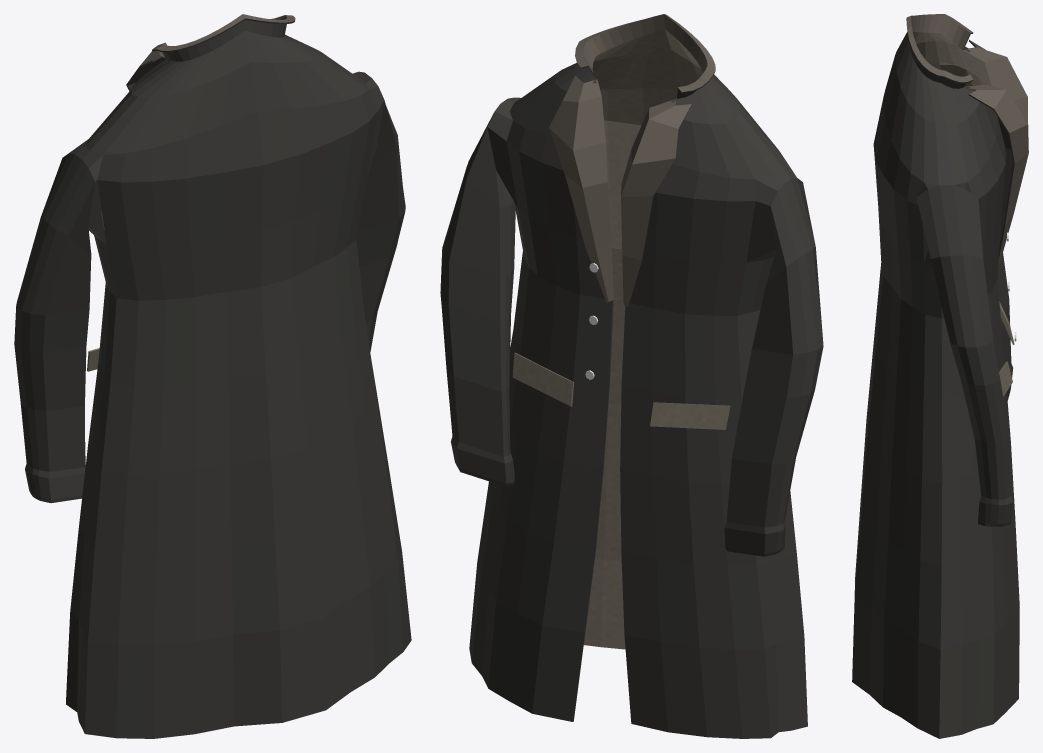
Rendered from coat_tailored.glb.
The picture shows the model from 3 angles, left to right: view 1: azimuth 30°, elevation 25°; view 2: azimuth 150°, elevation 25°; view 3: azimuth 270°, elevation 25°; orthographic projection. The views are drawn at different scales.
Visible parts, largest first — view 1: Tailored_coat_JOINED_sleeves; view 2: Tailored_coat_JOINED_sleeves, Pocket_L, Pocket_R; view 3: Tailored_coat_JOINED_sleeves.
Part boxes in pixels (<box>): Tailored_coat_JOINED_sleeves: <box>14,14,411,738</box>; Tailored_coat_JOINED_sleeves: <box>440,14,823,738</box>; Pocket_L: <box>650,402,730,429</box>; Pocket_R: <box>512,352,573,406</box>; Tailored_coat_JOINED_sleeves: <box>852,14,1028,738</box>.
Bounding box in the file's own units: 0.4828 × 0.831 × 0.2054.
Materials: 4 (1 with a texture image).
